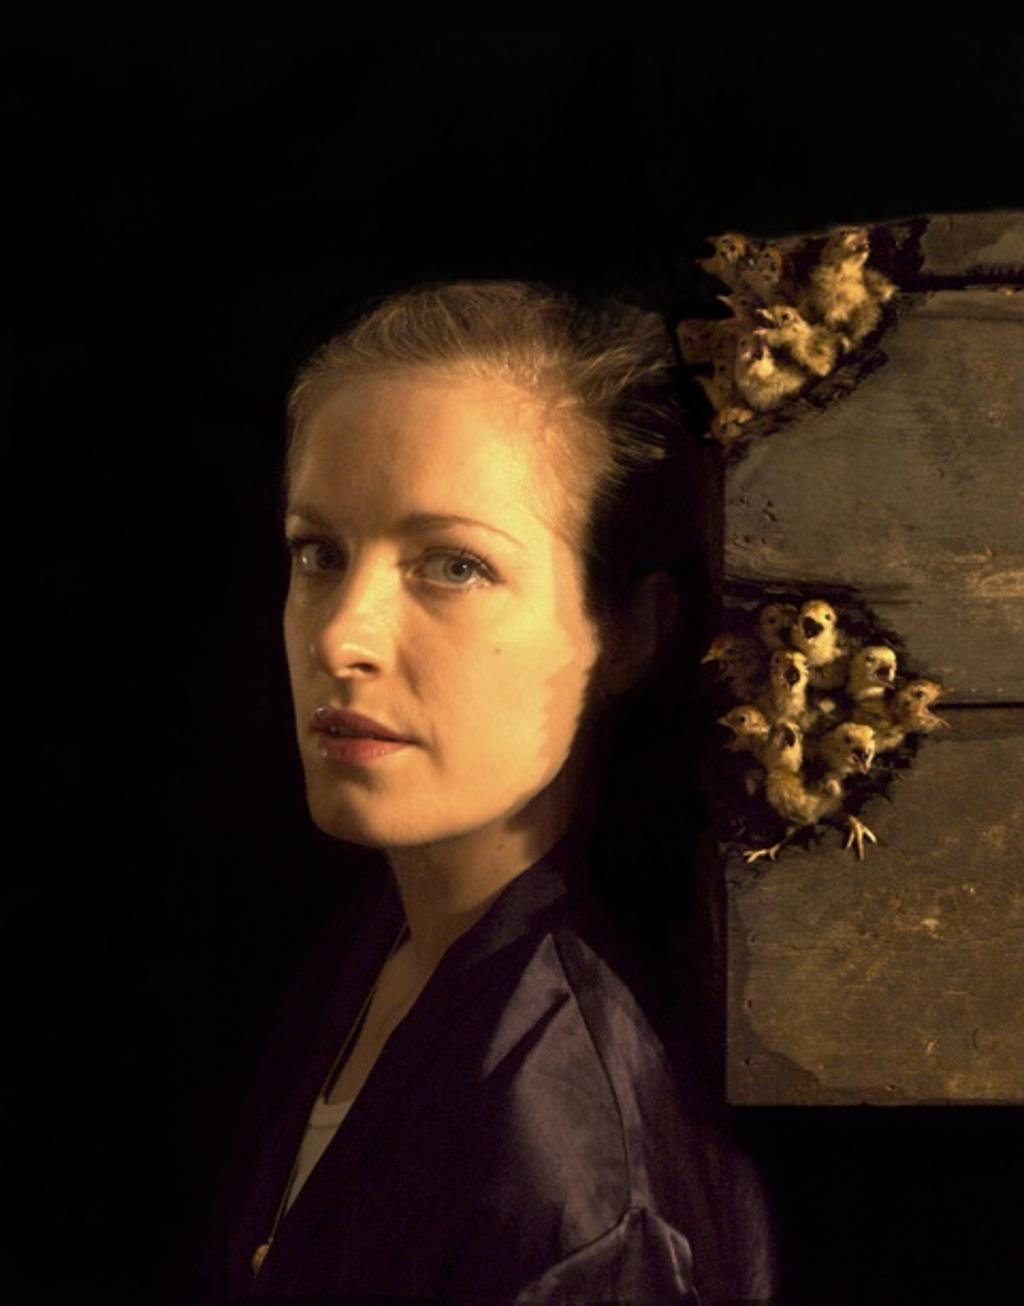face: (284, 370, 623, 839)
